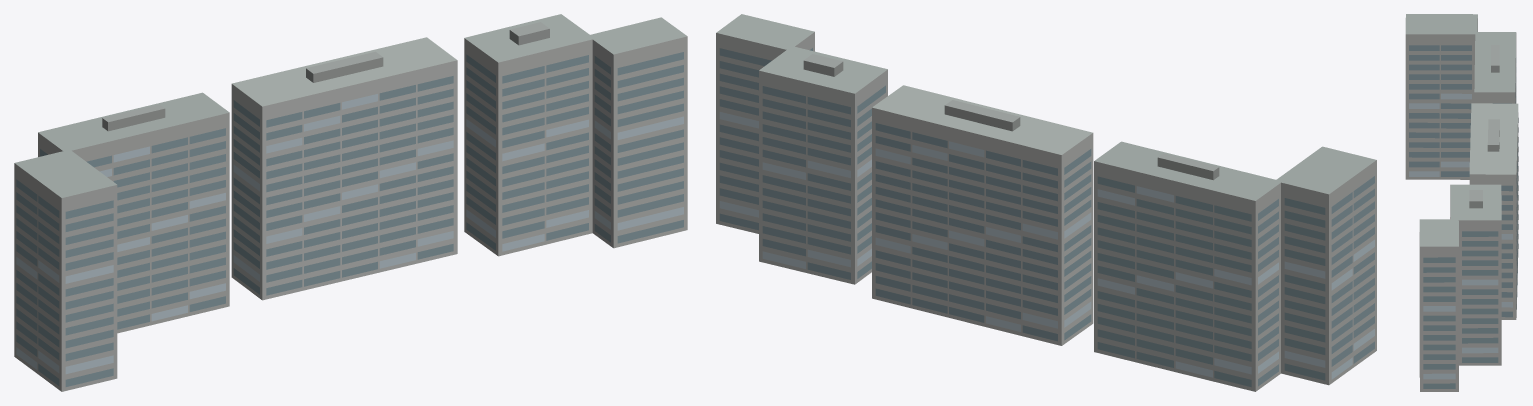
Rendered from apt-a15722104.glb.
3 renders of one model, left to right at view 1: azimuth 30°, elevation 25°; view 2: azimuth 150°, elevation 25°; view 3: azimuth 270°, elevation 25°, orthographic. The views are drawn at different scales.
Visible parts, largest first — view 1: apt-a15722104; view 2: apt-a15722104; view 3: apt-a15722104.
Boxes of the visible parts, x1,y1,x2,y2 form: apt-a15722104: (14, 14, 687, 391); apt-a15722104: (716, 14, 1376, 391); apt-a15722104: (1405, 14, 1518, 391).
Bounding box in the file's own units: 138 × 42 × 28.27.
